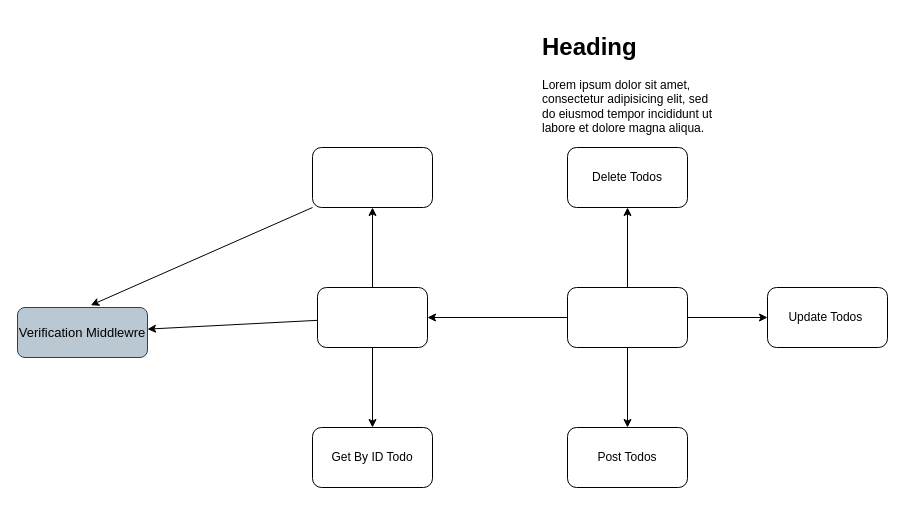
Some shapes in this 905 by 505 pixel diagram are drawn without their labels. The shapes that lost their labels are listed below. From the top down, each one's centre as x and y in pixels, then its label:
the point at 372,177: Get All Todos
the point at 372,317: Get tods
the point at 627,317: Todos
